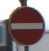No entry: (6, 5, 44, 45)
